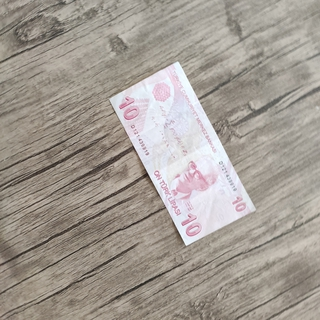10TLBack: (107, 59, 257, 247)
